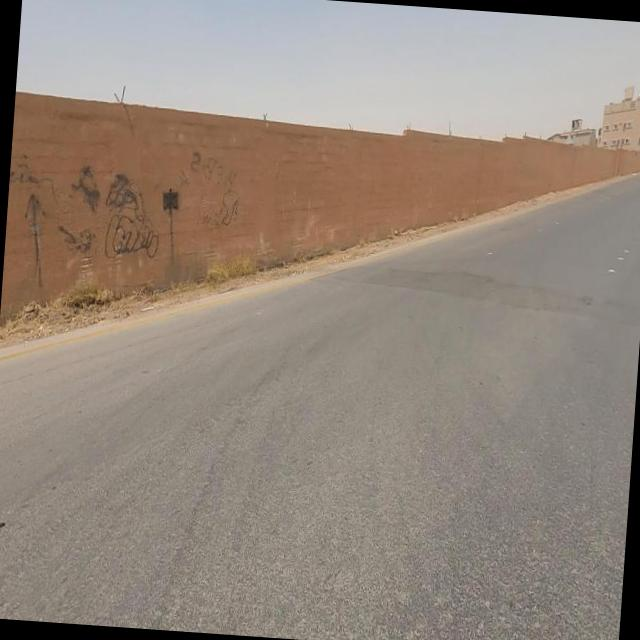debris: (0, 80, 241, 347), (143, 95, 290, 302)
